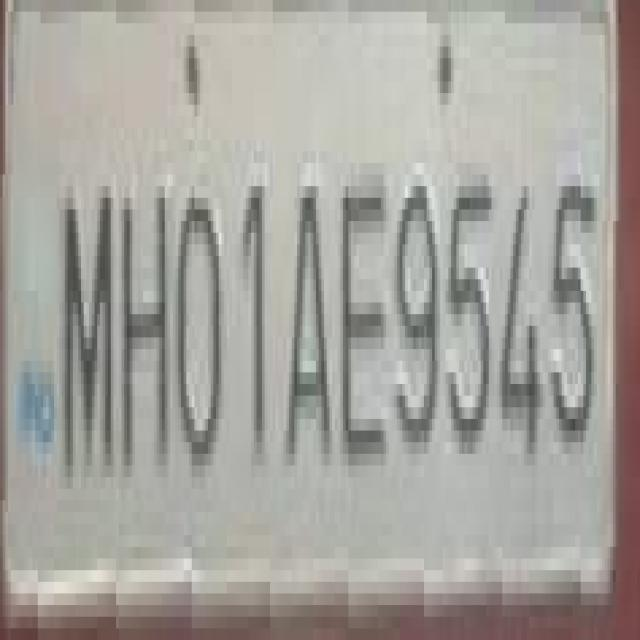plate: (3, 11, 605, 640)
